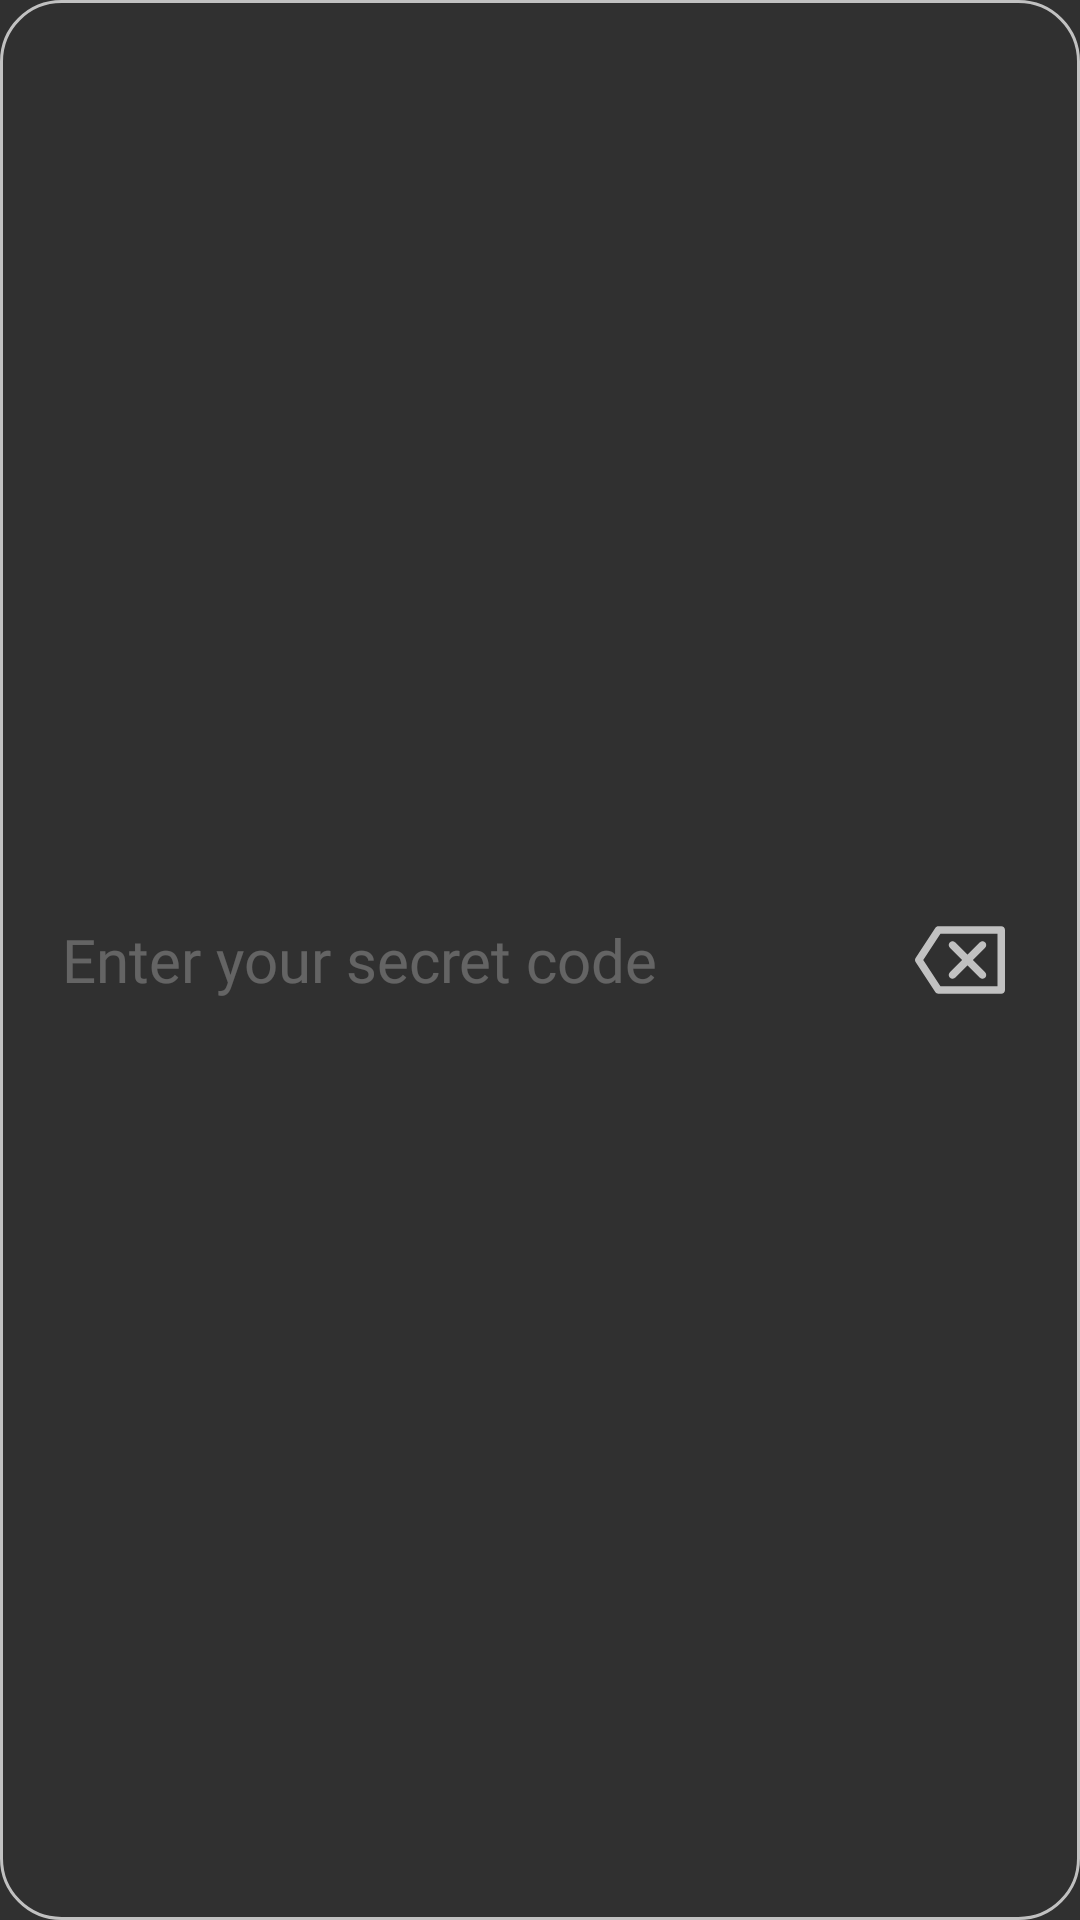

Screen size 1080px×1920px. Icon name, then its box in pixels as (x1, y1, x2, y2):
backspace: (915, 926, 1005, 994)
